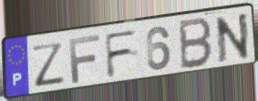6: (144, 25, 174, 72)
B: (179, 16, 214, 72)
F: (103, 27, 140, 81), (67, 33, 102, 85)
N: (214, 10, 251, 65)
Z: (30, 40, 67, 89)
